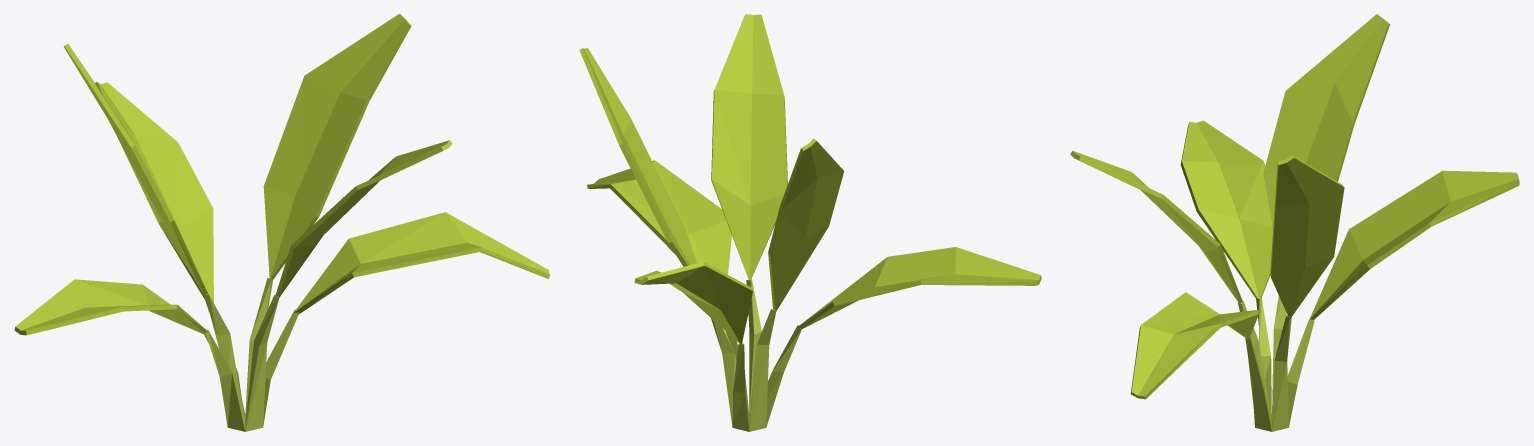
File: EchinodorusBleheri.glb
3 views of the same model, side by side, from view 1: azimuth 30°, elevation 25°; view 2: azimuth 150°, elevation 25°; view 3: azimuth 270°, elevation 25° (orthographic). The views are drawn at different scales.
Parts seen in each view (by area): view 1: Crown, Trunk; view 2: Crown, Trunk; view 3: Crown, Trunk.
Boxes of the visible parts, box(x1,y1,x2,y2) form: Crown: box(14, 14, 550, 335); Trunk: box(203, 278, 299, 431); Crown: box(579, 14, 1041, 344); Trunk: box(711, 279, 801, 431); Crown: box(1070, 14, 1519, 399); Trunk: box(1238, 295, 1314, 431).
Size of the model in its own units: 1.28 by 0.895 by 1.03.
